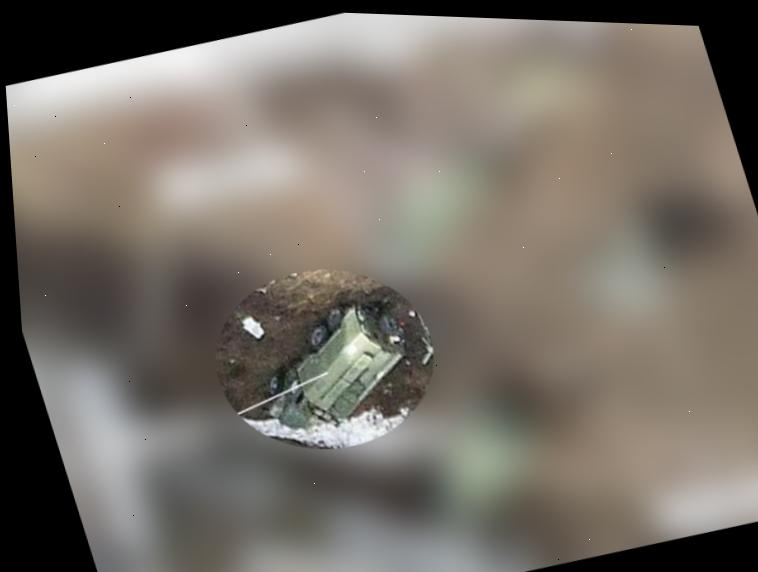truck: (236, 285, 426, 448)
